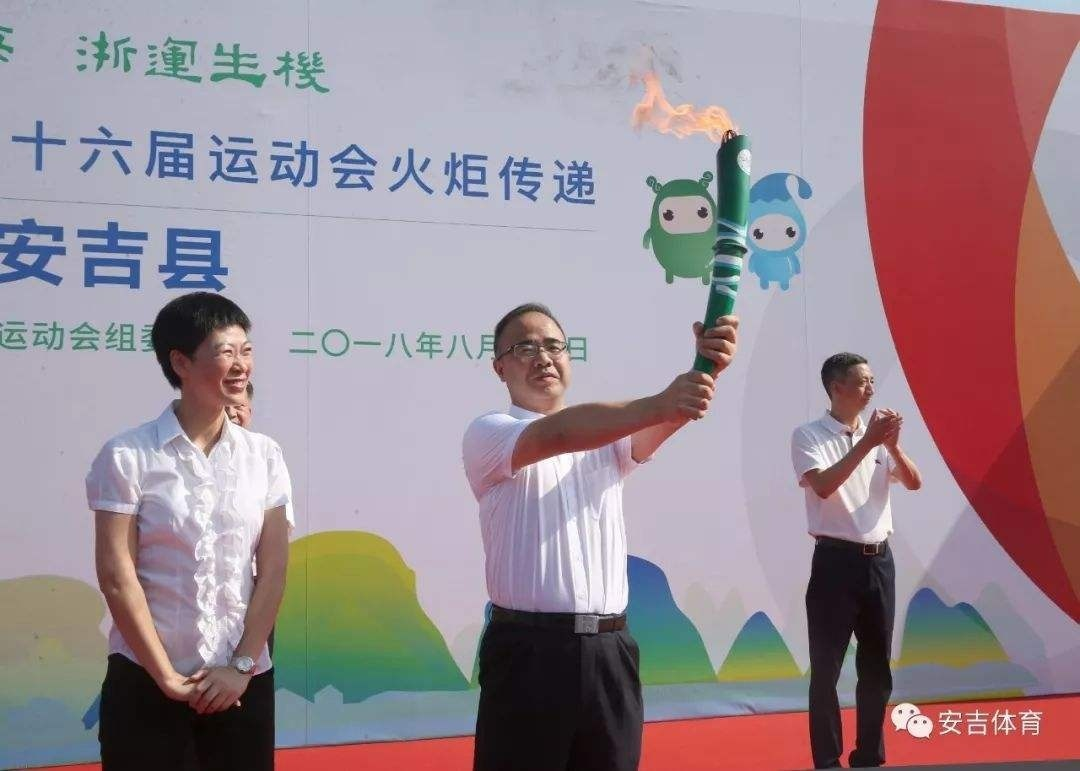fire: (625, 62, 739, 140)
